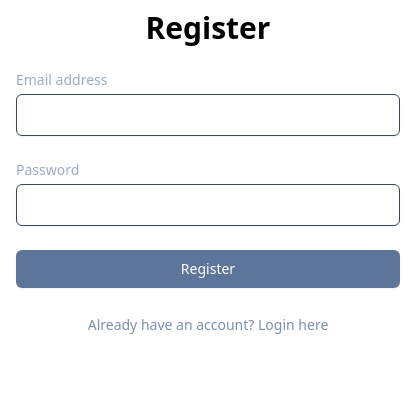
Register Component › submits form with valid data
Type "newuser@example.com" into the field labelled "Email address" at (208, 115), box 16,94 -> 400,136
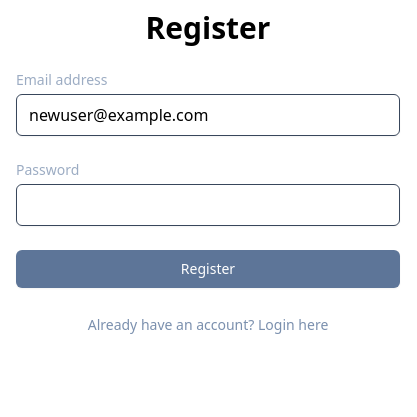
Type "newpassword123" into the password field labelled "Password" at (208, 205), box 16,184 -> 400,226
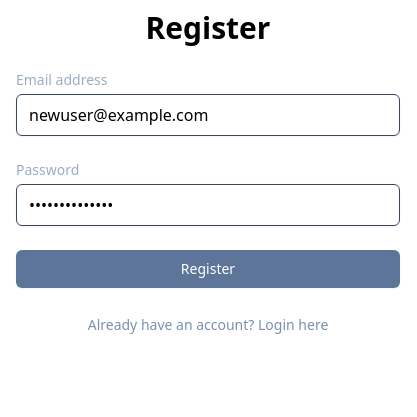
Click the button "Register" at (208, 269), box 16,250 -> 400,288
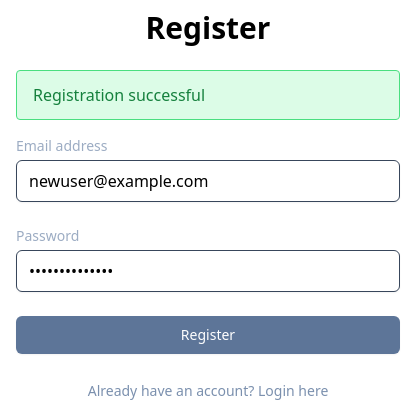
Check: the text "Registration successful" is shown, box 33,84 -> 205,106
